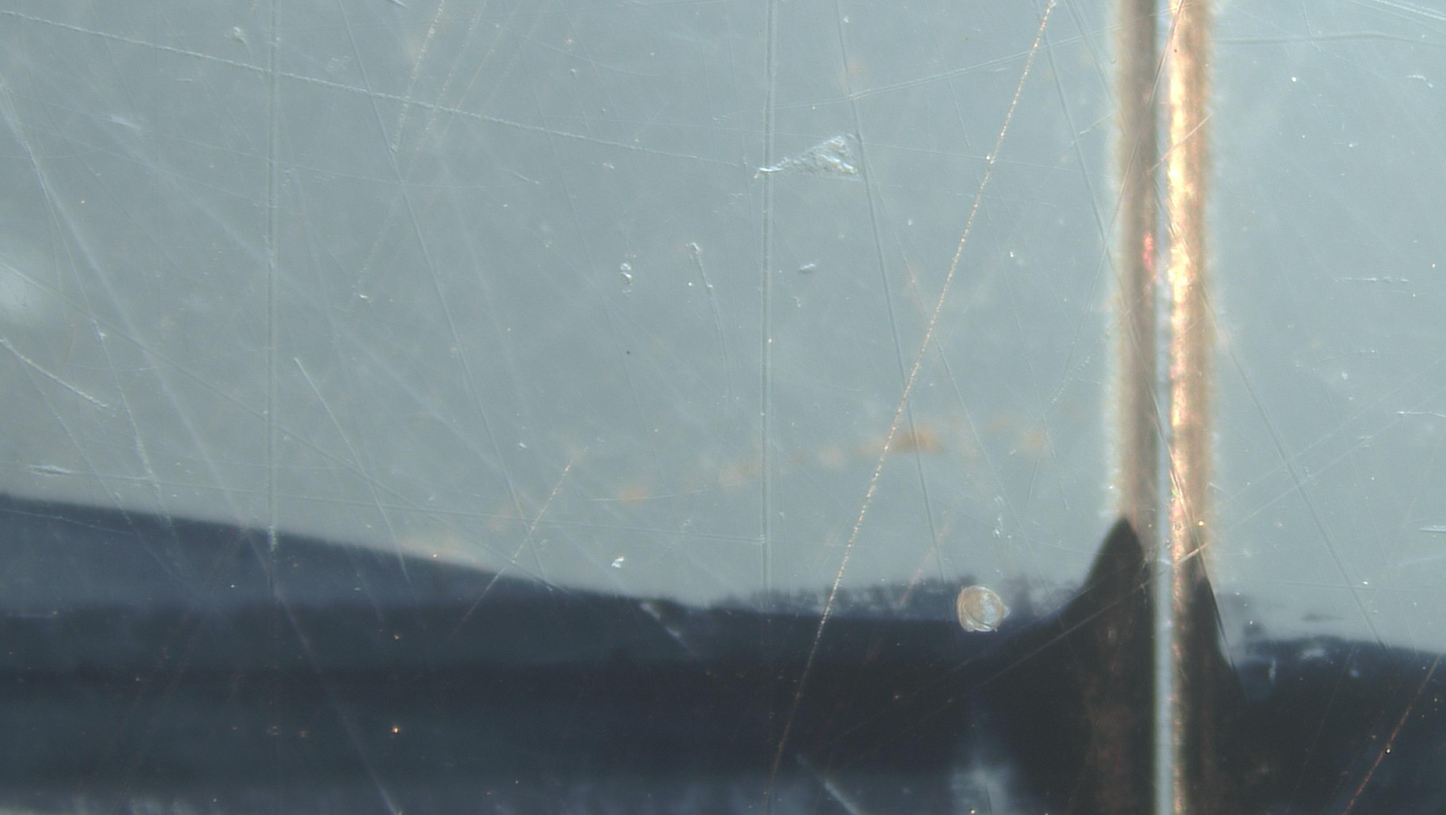live: (956, 586, 1009, 633)
